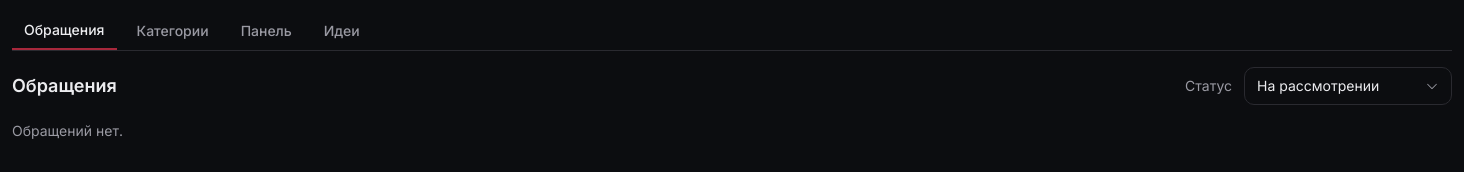
FeedbackPage › shows cases by default and switches to categories tab
Expected: the button "Обращения" is shown, [12,12,116,50]
Expected: the text "Обращений нет." is shown, [12,122,123,139]
Click the button "Категории". click: (173, 31)
box: [124,12,221,50]
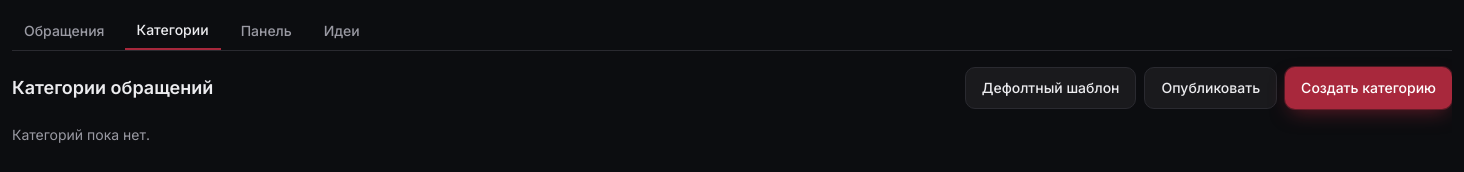
Expected: the button "Создать категорию" is shown, [1285,67,1452,109]
